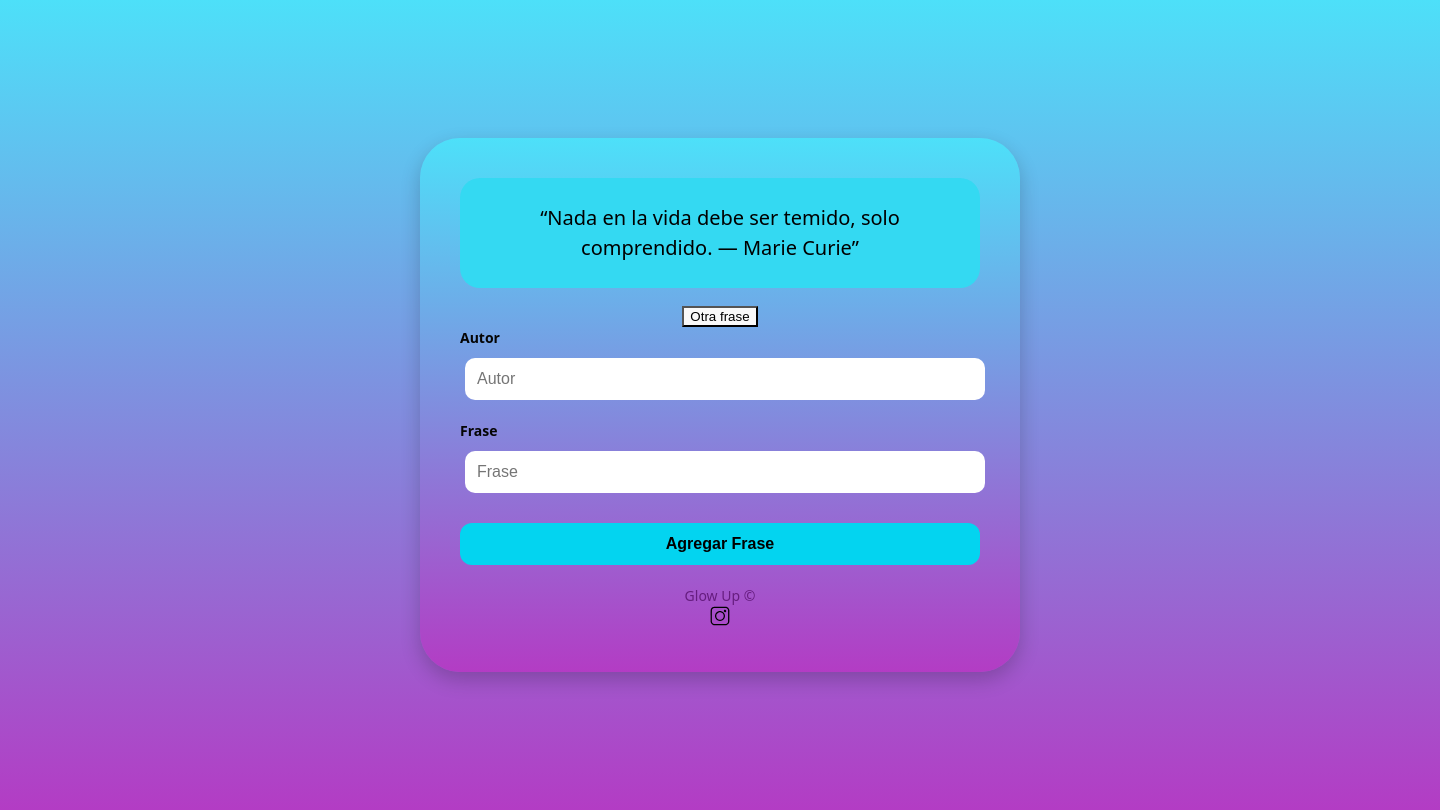
Test: MotivationalPhrases › permite eliminar una frase
The width and height of the screenshot is (1440, 810).
Type "Borrar" into the field labelled "Autor".
click(725, 379); type("Borrar")  # box [465,358,985,400]
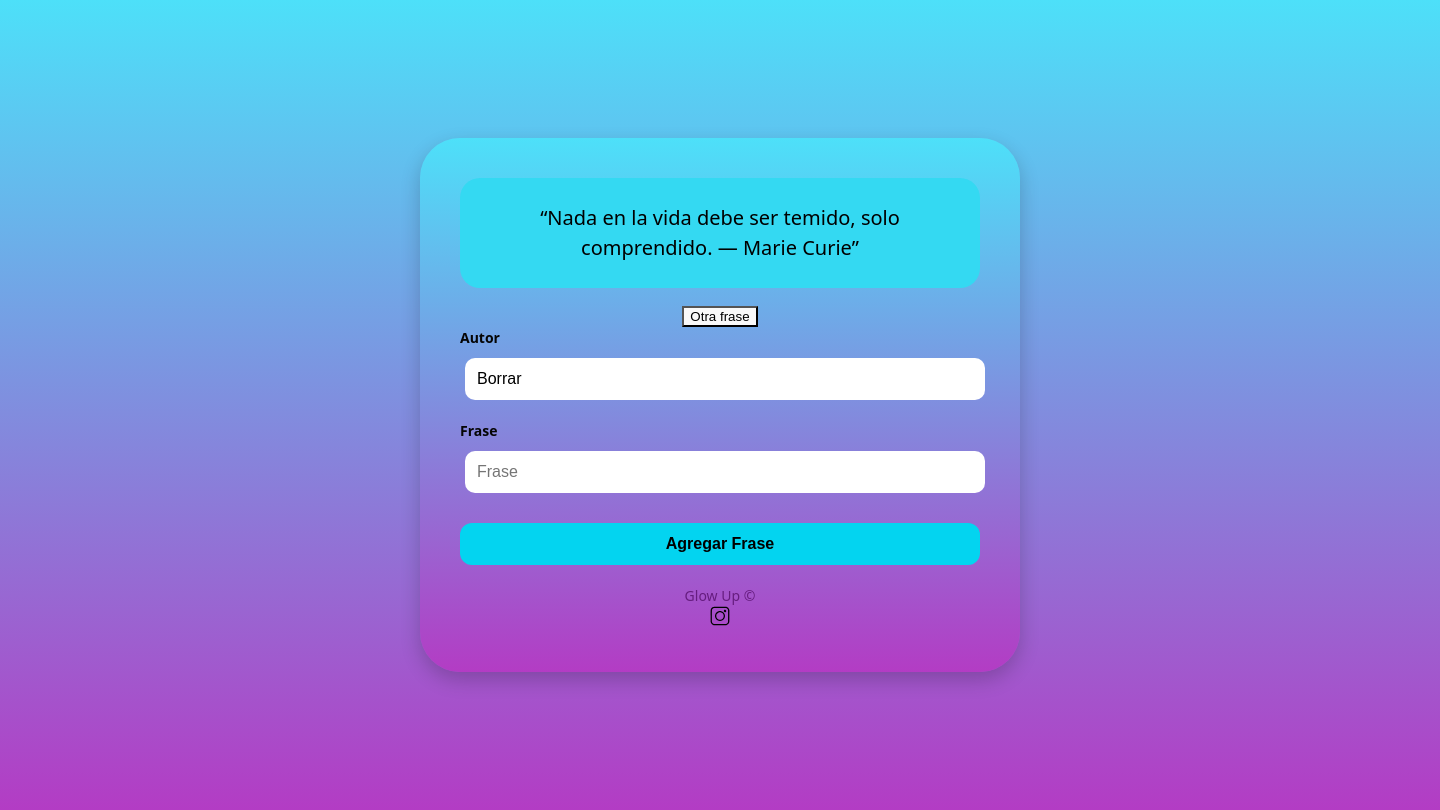
Type "Esta frase será eliminada" into the field labelled "Frase".
click(725, 472); type("Esta frase será eliminada")  # box [465,451,985,493]
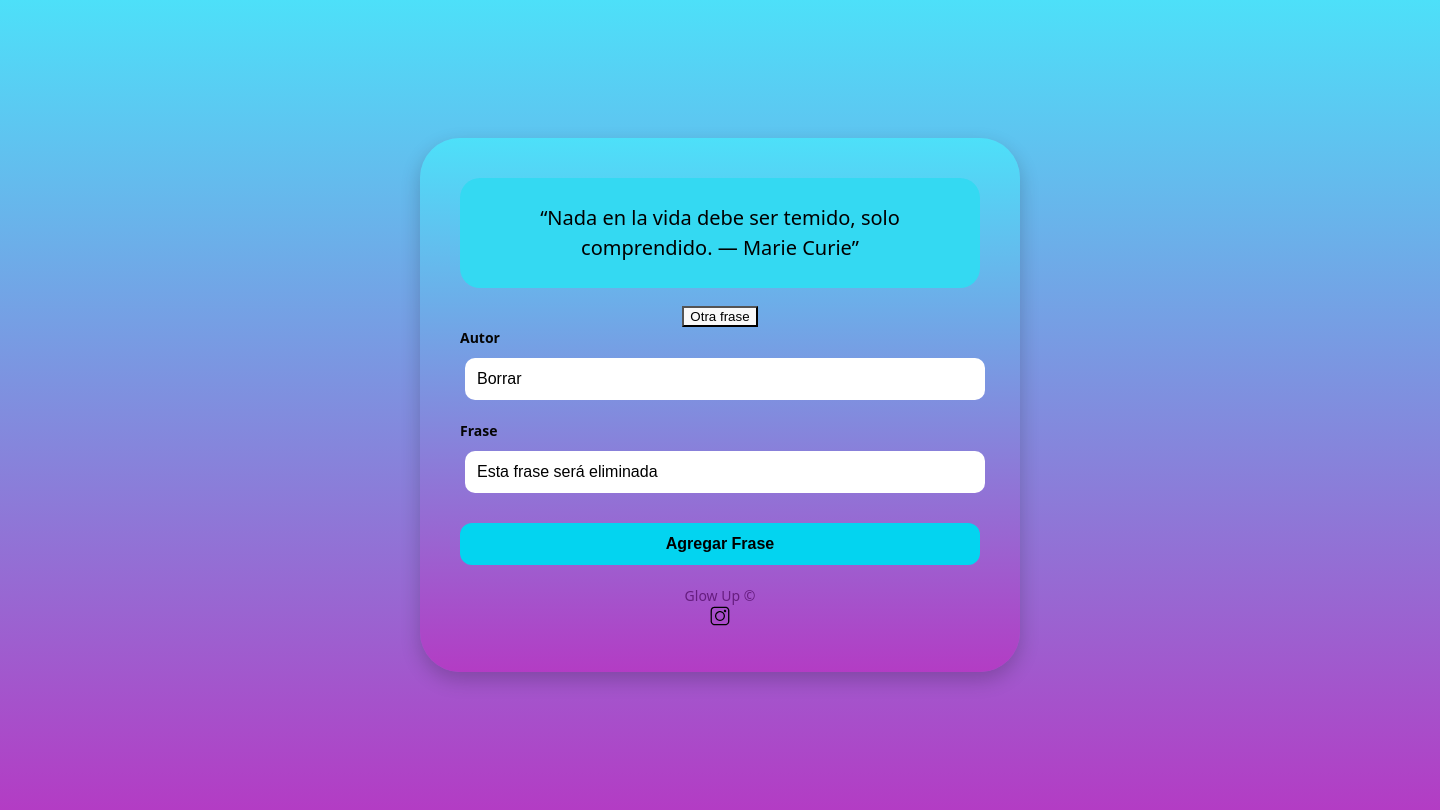
Click the button "Agregar Frase".
click(720, 544)  # box [460,523,980,565]
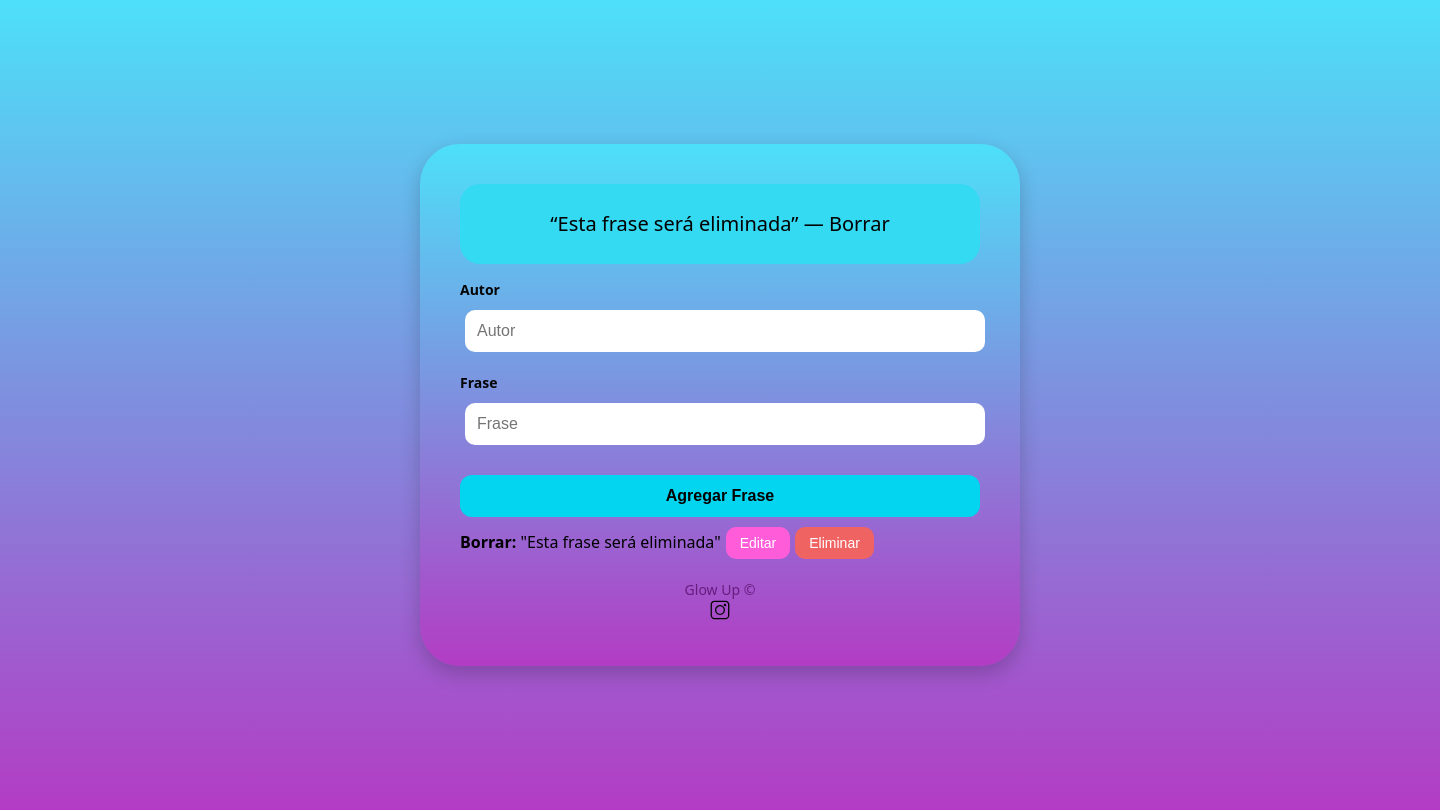
Click the button "Eliminar".
click(835, 543)  # box [795,527,874,559]
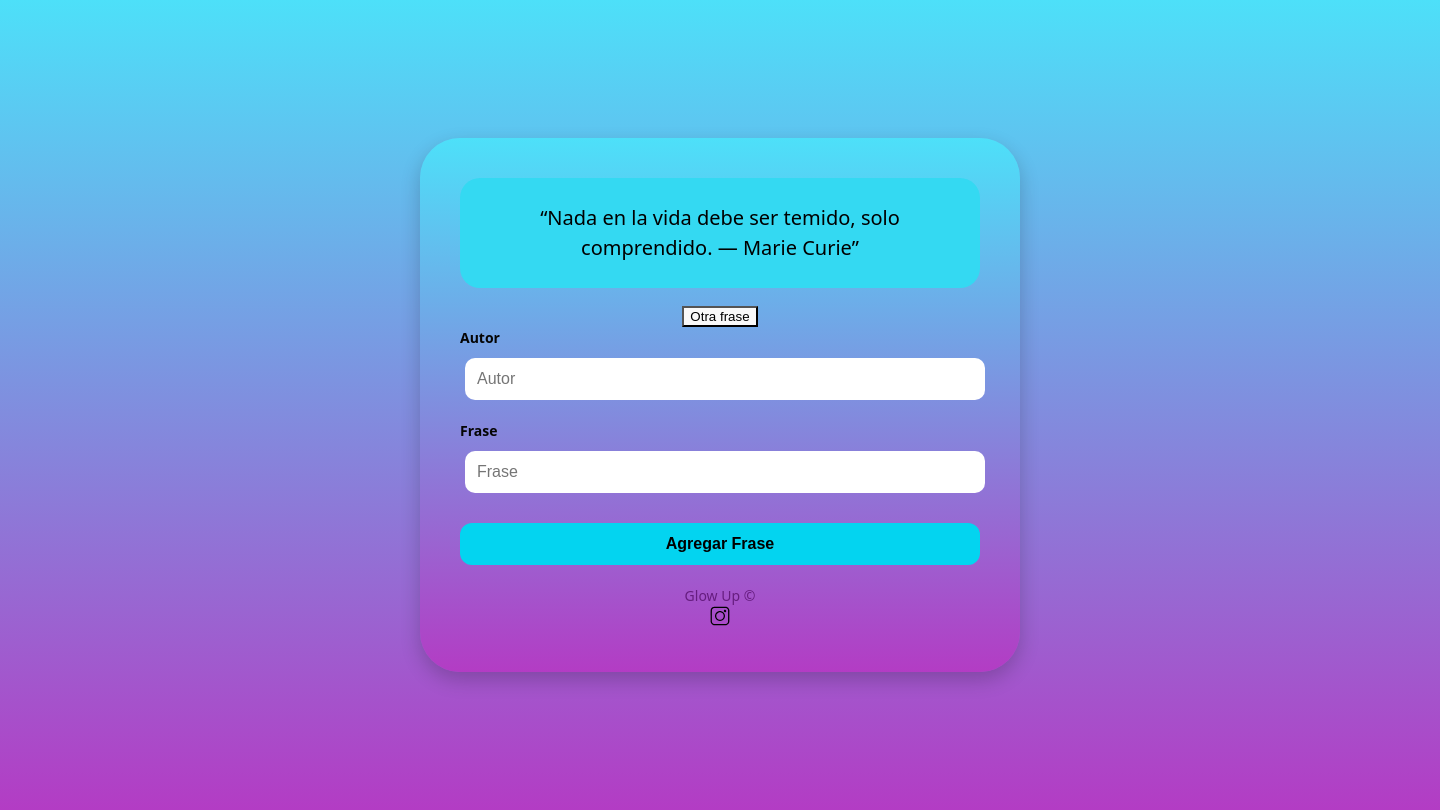
Expected: the text "Esta frase será eliminada" is gone
